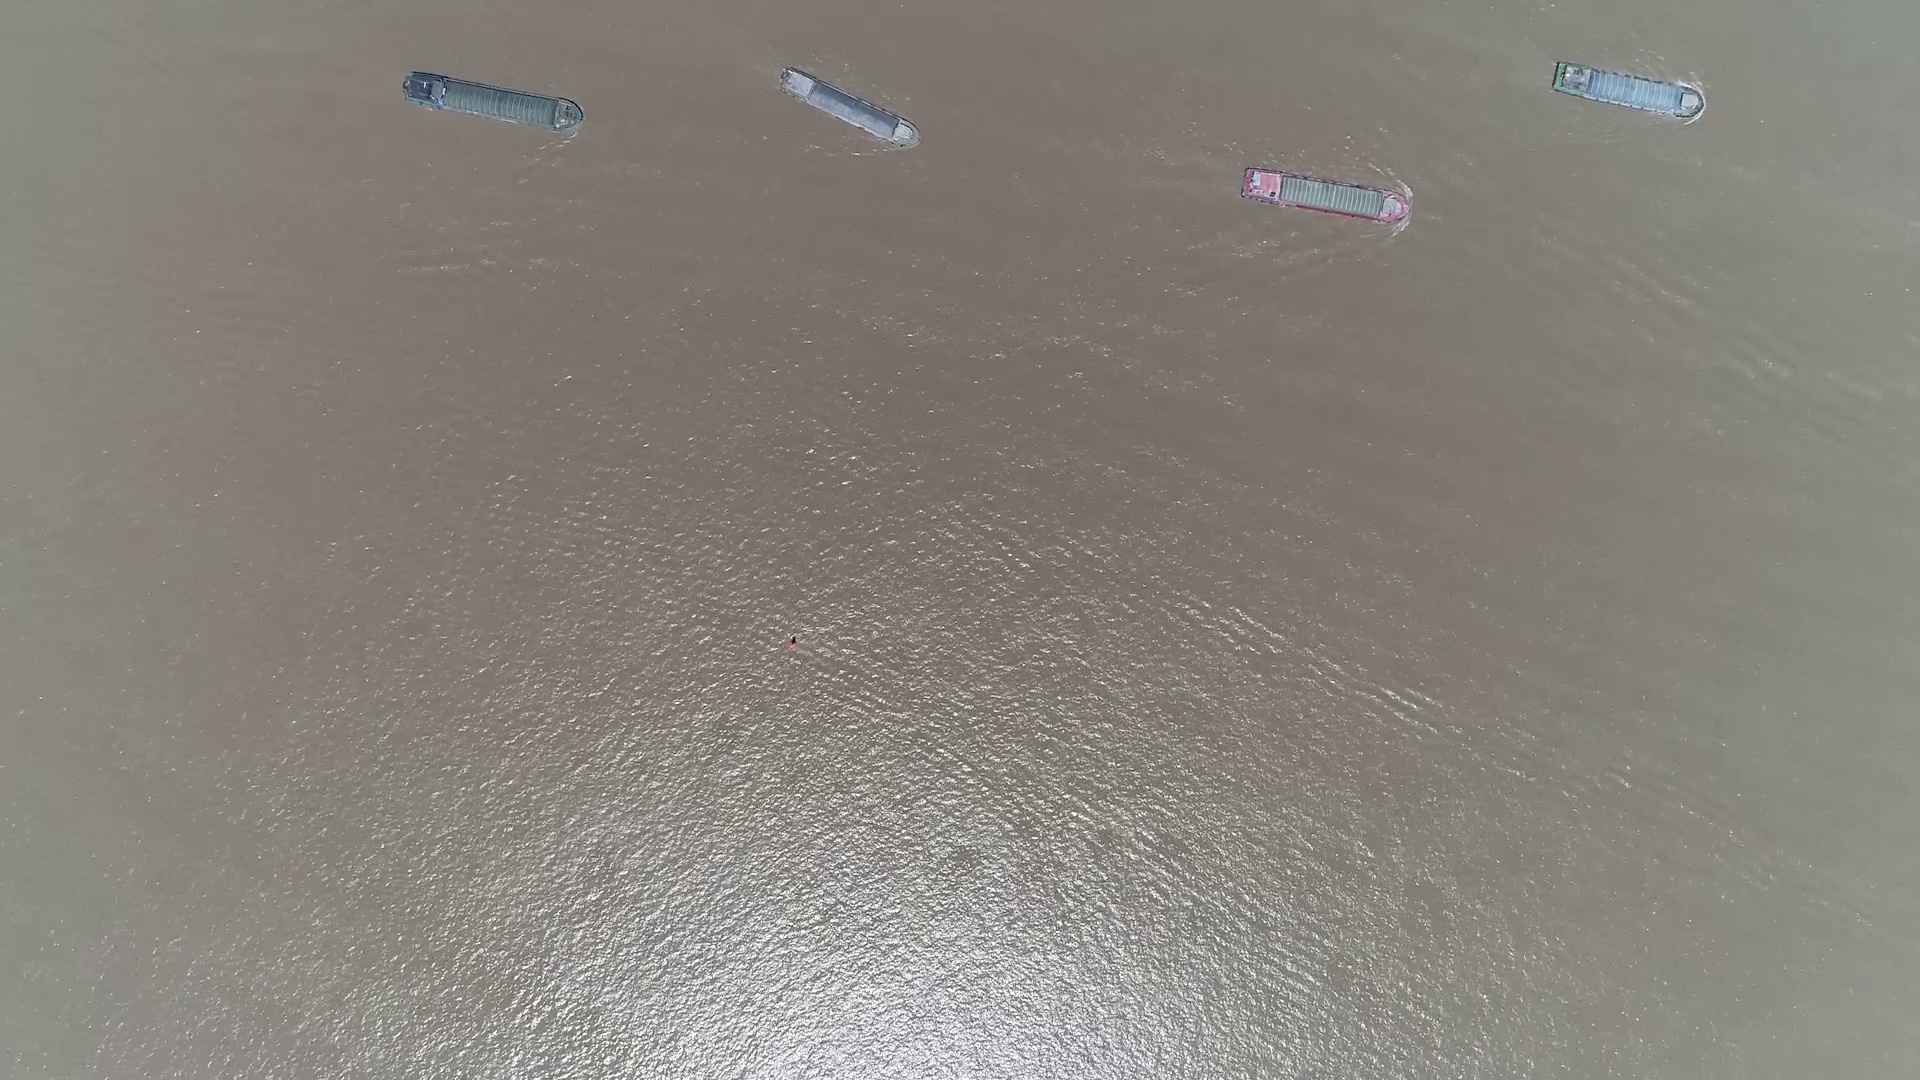ship: (401, 73, 582, 135), (778, 73, 918, 149), (1240, 169, 1411, 224), (1551, 65, 1704, 116)
